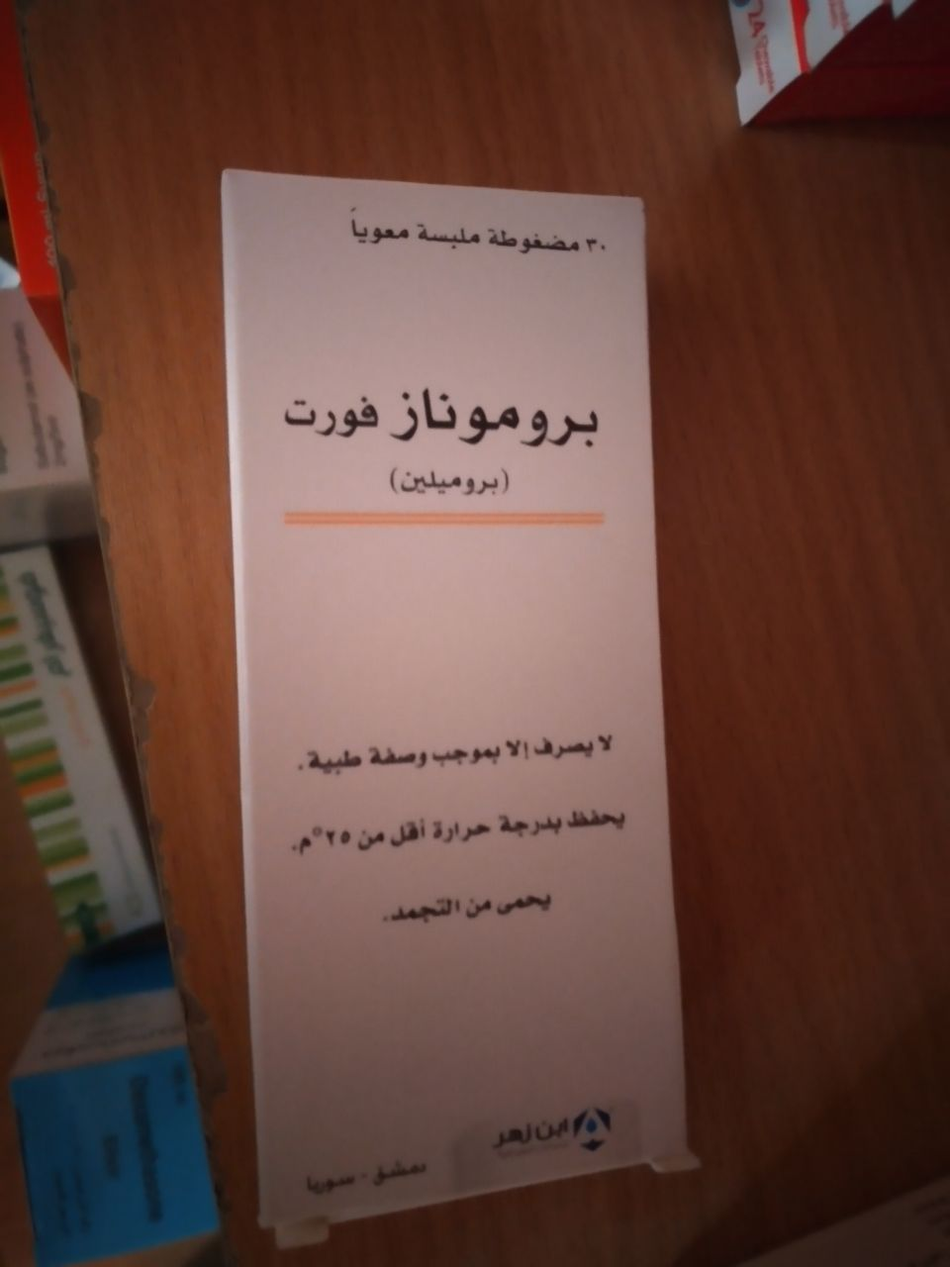Medicine: (191, 152, 703, 1234)
